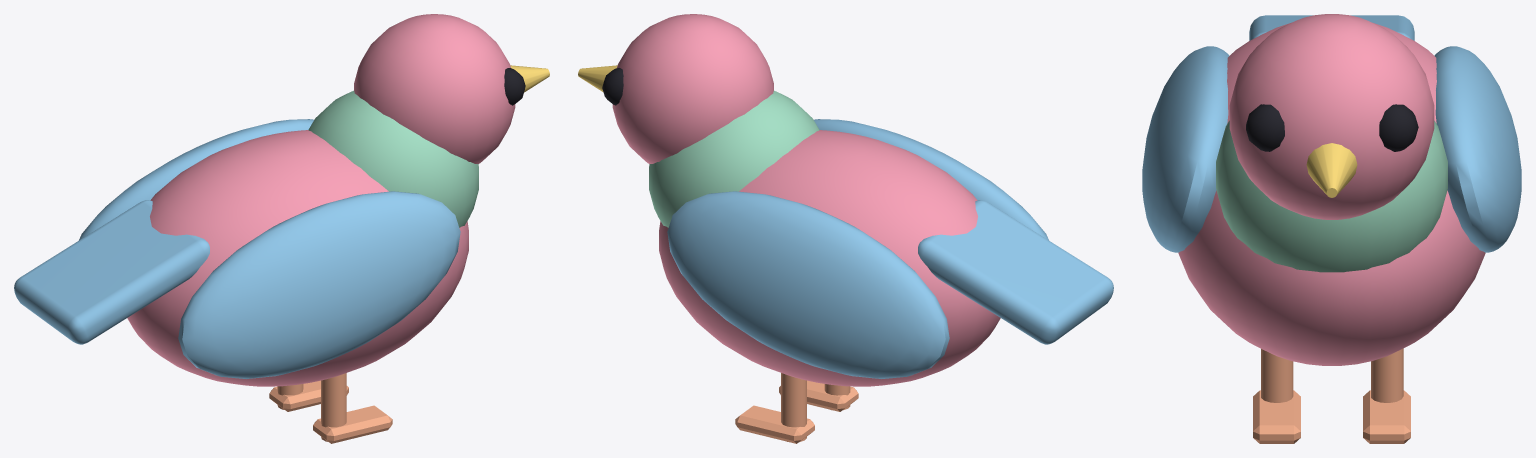
Rendered from rainbow_pigeon.glb.
3 views of the same model, side by side, from view 1: azimuth 30°, elevation 25°; view 2: azimuth 150°, elevation 25°; view 3: azimuth 270°, elevation 25° (orthographic). The views are drawn at different scales.
Visible parts, largest first — view 1: rainbow_pigeon; view 2: rainbow_pigeon; view 3: rainbow_pigeon.
Boxes of the visible parts, x1,y1,x2,y2 form: rainbow_pigeon: [14, 14, 549, 443]; rainbow_pigeon: [578, 14, 1113, 443]; rainbow_pigeon: [1142, 14, 1521, 443].
Bounding box in the file's own units: 0.5369 × 0.375 × 0.2757.
Materials: 1 (1 with a texture image).
